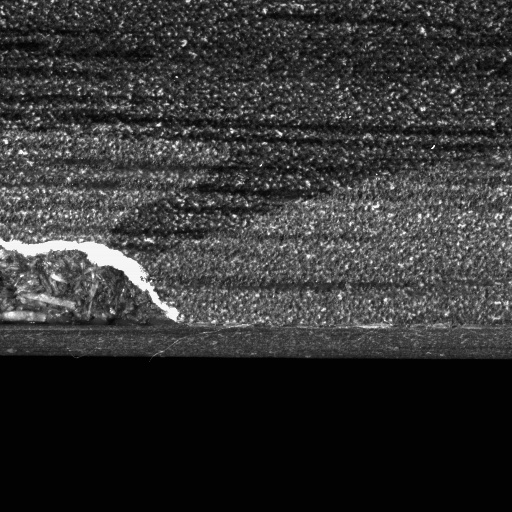bengque: (0, 250, 90, 325), (86, 264, 161, 324)
